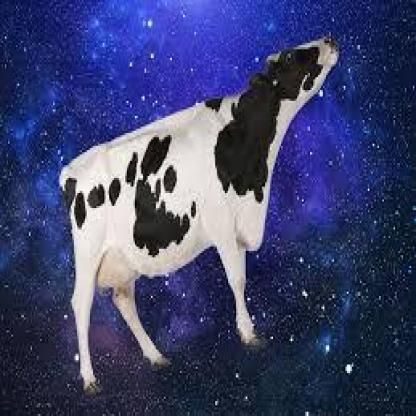cow: (64, 34, 339, 397)
